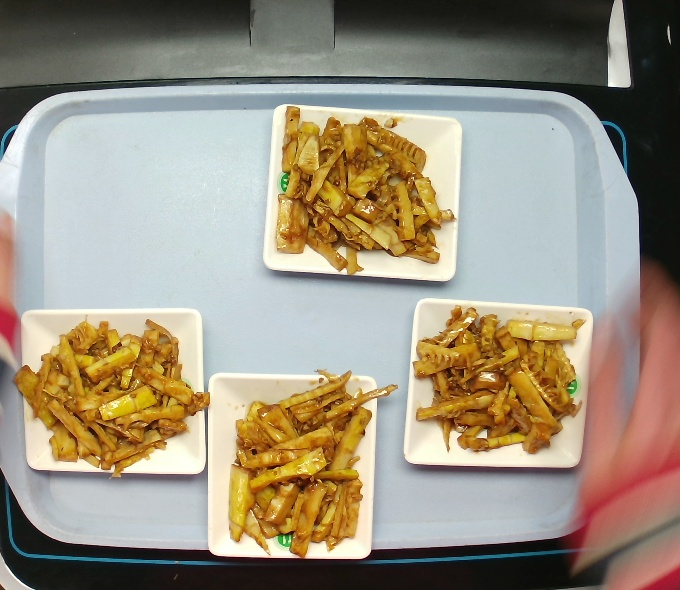wcq-QingChaoChunSun: (9, 317, 219, 481), (390, 299, 593, 461), (224, 371, 392, 557), (271, 111, 450, 268)
